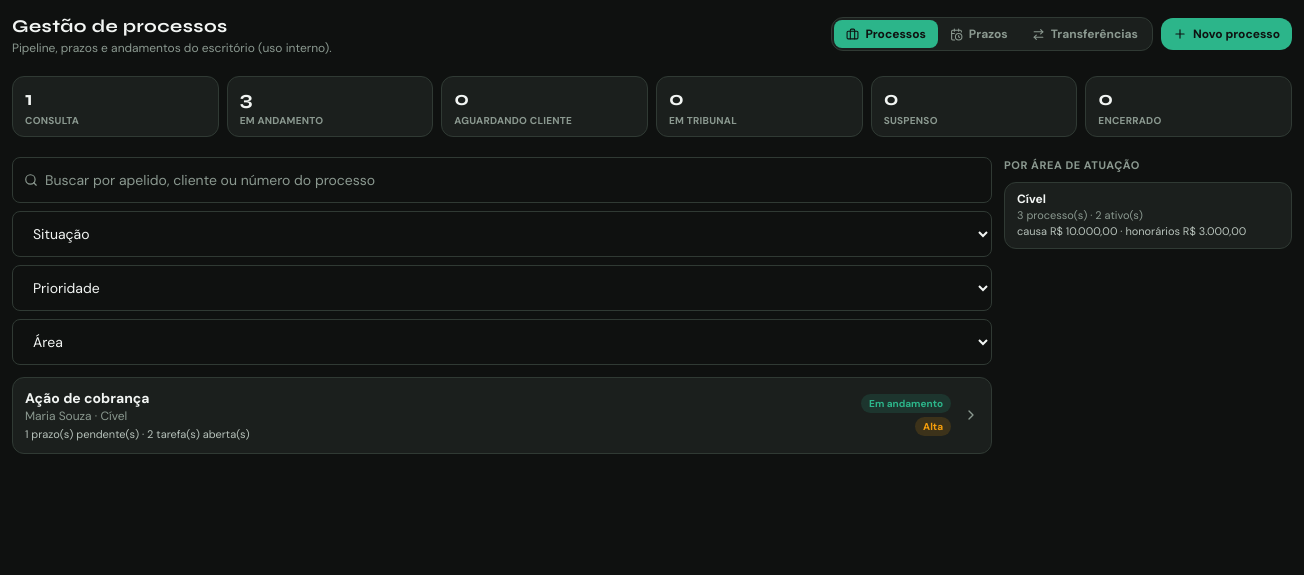
it: abre o detalhe do processo com as abas de tarefas, prazos e documentos
The width and height of the screenshot is (1304, 575).
Click the text "Ação de cobrança" at [87, 398], box [25,389,150,407]
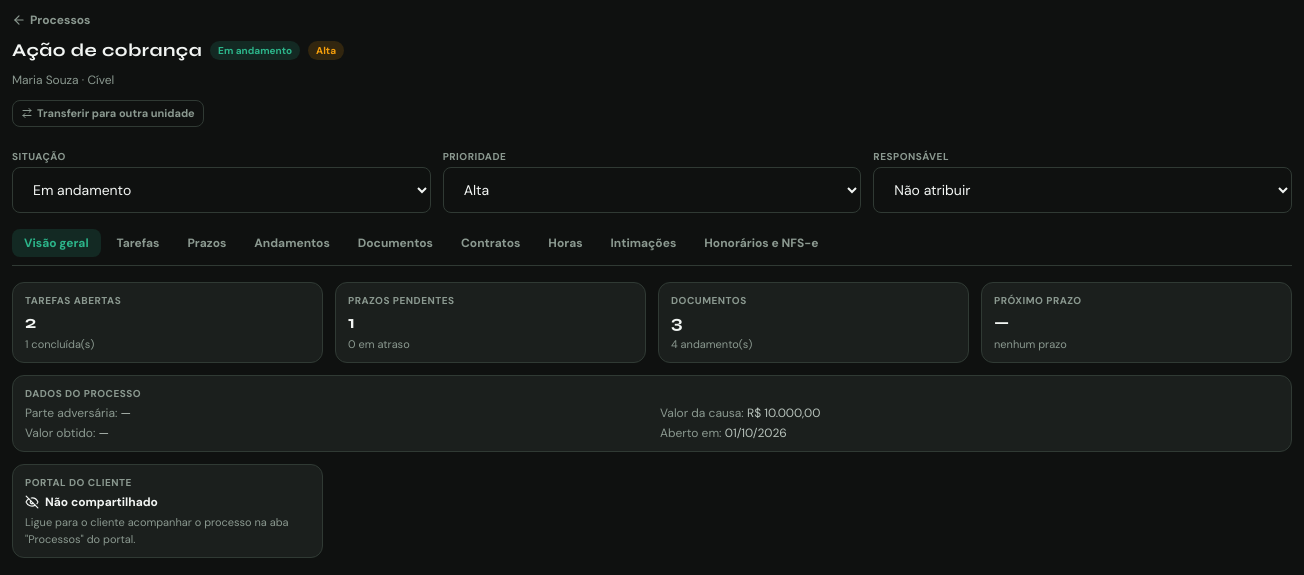
expect the button "Tarefas" is shown: met, box [105,228,171,256]
expect the button "Documentos" is shown: met, box [346,228,445,256]
expect the text "Tarefas abertas" is shown: met, box [25,294,121,306]
